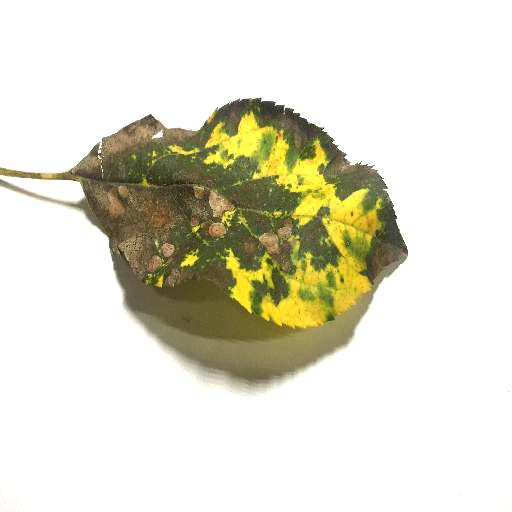Brown_Spot: (2, 107, 412, 346)
